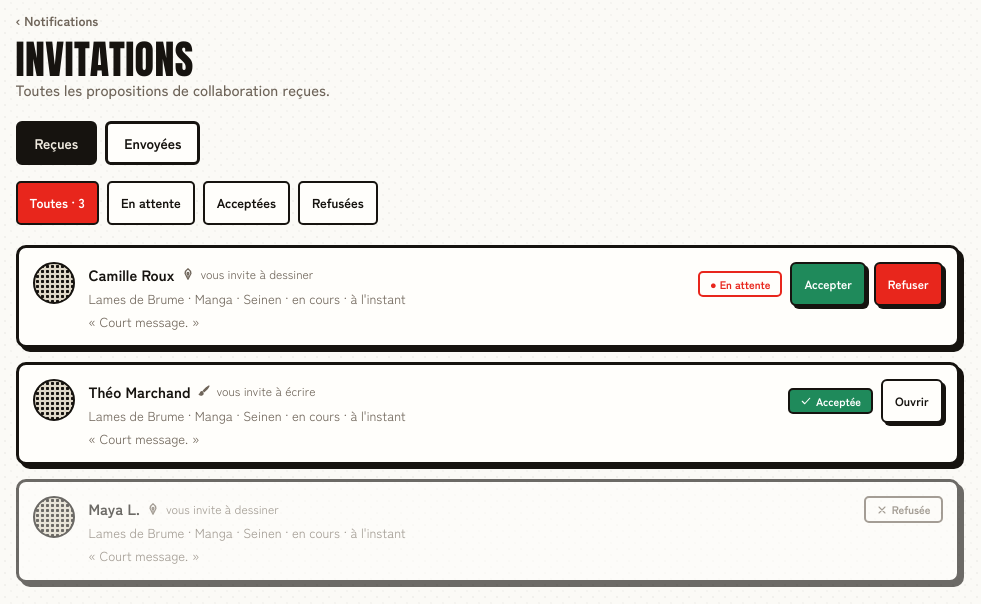
Test: InvitationsClient › filters client-side when a status chip is clicked (no refetch)
Expected: the text "Camille Roux" is shown, x1=88 y1=264 x2=174 y2=285
Click the button "En attente": [151, 203] box x1=107 y1=181 x2=195 y2=225
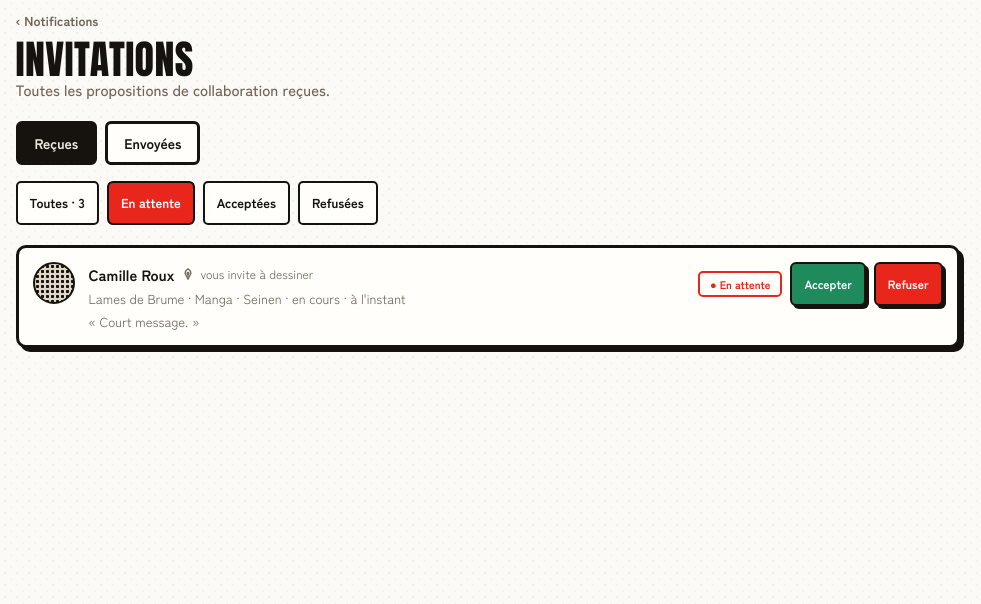
Expected: the text "Camille Roux" is shown, x1=88 y1=264 x2=174 y2=285
Now the link "Théo Marchand" is gone
Now the link "Maya L." is gone
